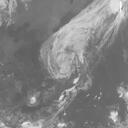cyclone: (39, 32, 91, 79)
